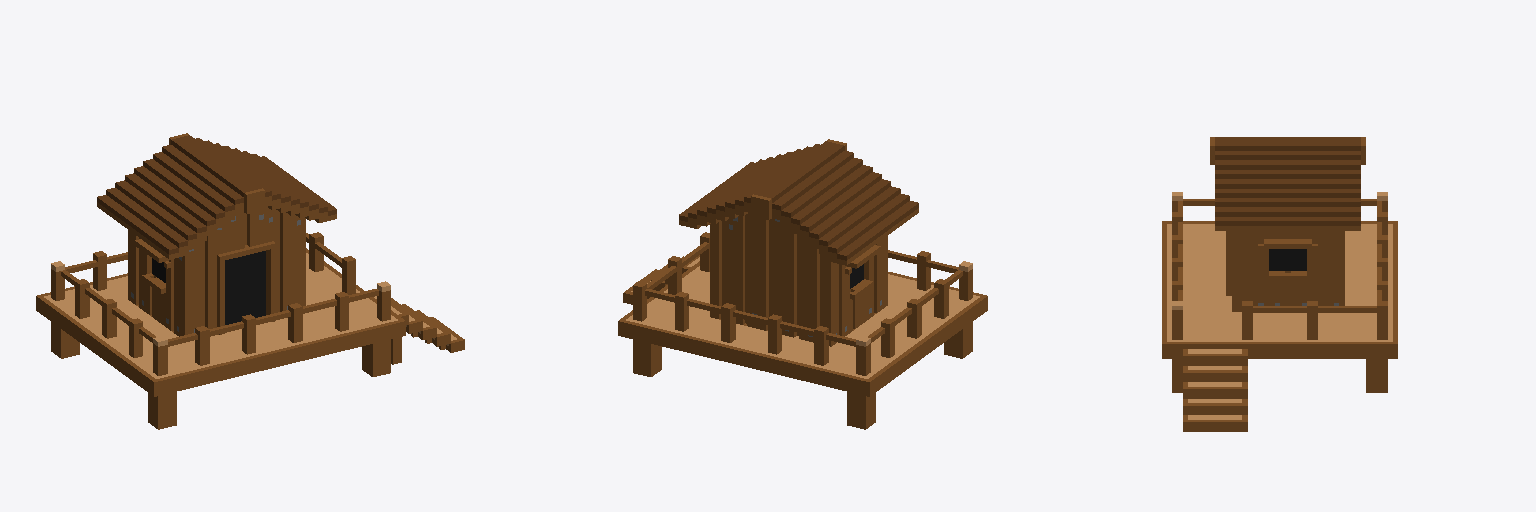
The picture shows the model from 3 angles: view 1: azimuth 30°, elevation 25°; view 2: azimuth 150°, elevation 25°; view 3: azimuth 270°, elevation 25°; orthographic projection.
Visible parts, largest first — view 1: object 1; view 2: object 1; view 3: object 1.
Part boxes in pixels (x1,y1,x2,y2): object 1: (36,133,464,429); object 1: (618,139,987,429); object 1: (1162,137,1397,431).
Size of the model in its own units: 6.9 by 4 by 4.4.
1 materials, 1 textured.